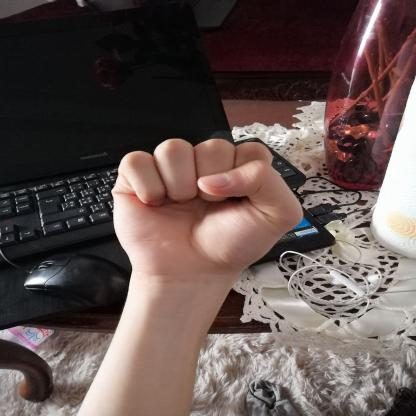SAD: (88, 128, 316, 286)
